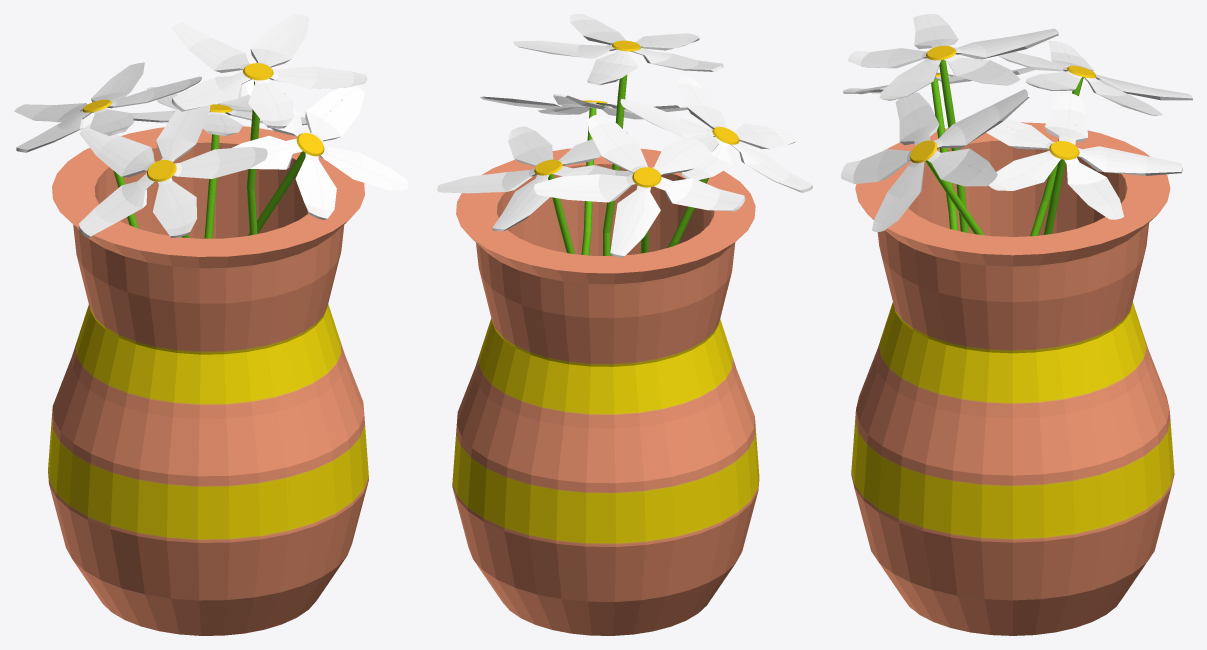
File: madelief.glb
The picture shows the model from 3 angles, left to right: view 1: azimuth 30°, elevation 25°; view 2: azimuth 150°, elevation 25°; view 3: azimuth 270°, elevation 25°; orthographic projection. The views are drawn at different scales.
Parts seen in each view (by area): view 1: Cylinder_2; view 2: Cylinder_2; view 3: Cylinder_2.
Part boxes in pixels (x1,y1,x2,y2): Cylinder_2: (14,14,408,635); Cylinder_2: (437,14,812,635); Cylinder_2: (841,14,1192,635).
Bounding box in the file's own units: 1.98 × 3.32 × 1.91.
Materials: 1 (1 with a texture image).
